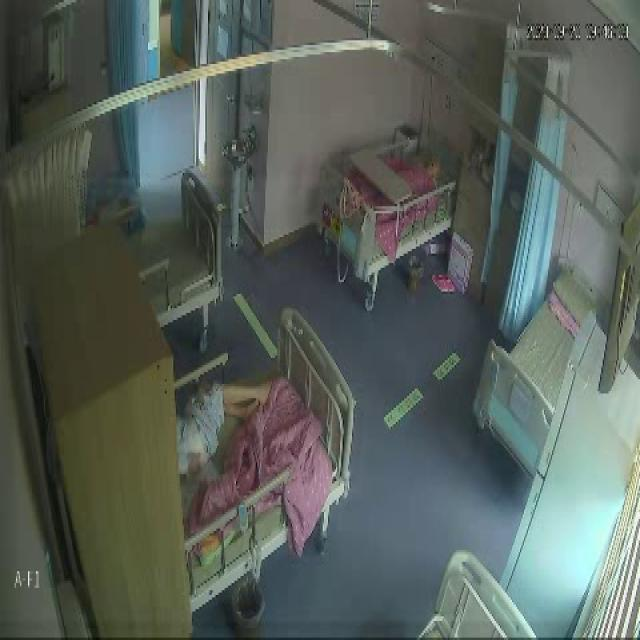bed: (174, 315, 350, 580), (315, 118, 458, 269), (483, 260, 590, 440), (130, 168, 224, 324)
lie: (174, 380, 273, 476)
patient: (174, 380, 274, 480), (413, 148, 443, 186)
